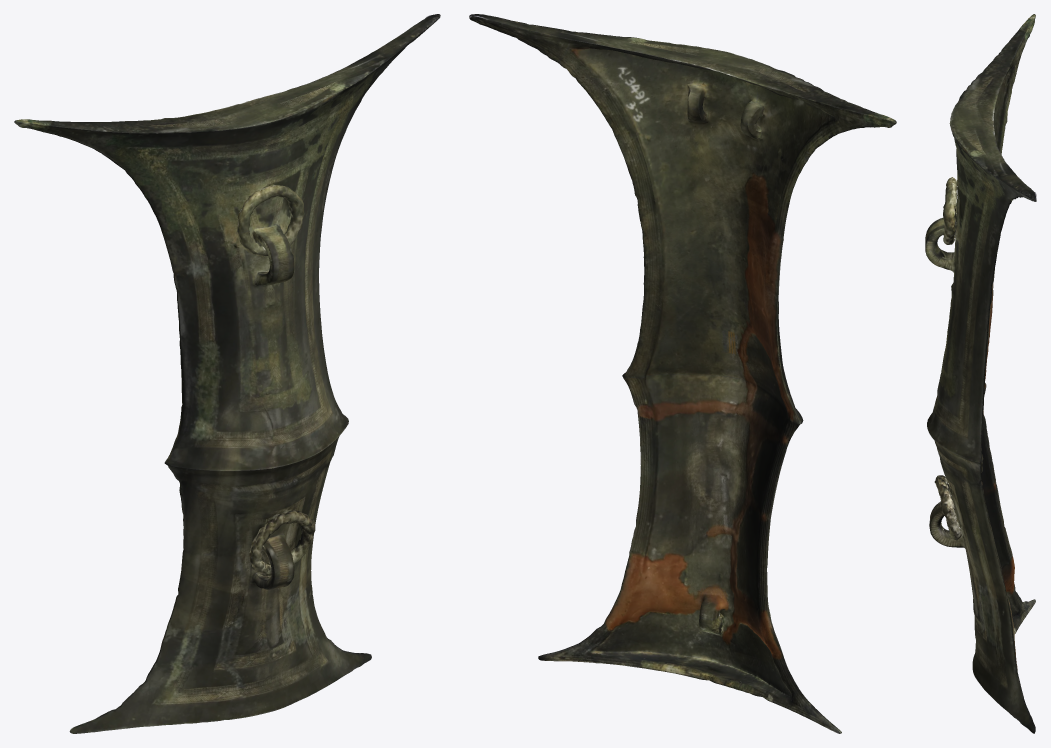
File: dagger-hilt-bronze.glb
3 views of the same model, side by side, from view 1: azimuth 30°, elevation 25°; view 2: azimuth 150°, elevation 25°; view 3: azimuth 270°, elevation 25° (orthographic). The views are drawn at different scales.
Visible parts, largest first — view 1: ssu003491-003-30000; view 2: ssu003491-003-30000; view 3: ssu003491-003-30000.
Boxes of the visible parts, bbox=[...] form: ssu003491-003-30000: bbox=[14, 14, 440, 733]; ssu003491-003-30000: bbox=[469, 14, 896, 733]; ssu003491-003-30000: bbox=[925, 14, 1036, 733].
Size of the model in its own units: 1.14 by 1.61 by 0.288.
1 material, 1 textured.
